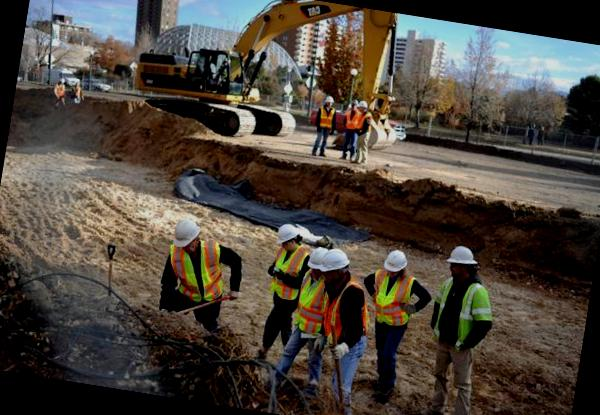helmet: (308, 242, 356, 280), (166, 216, 199, 251), (445, 240, 482, 269), (383, 246, 407, 275), (274, 221, 300, 243)
person: (411, 239, 502, 415), (346, 236, 434, 409), (143, 207, 258, 338), (296, 246, 376, 414), (252, 220, 312, 370)
